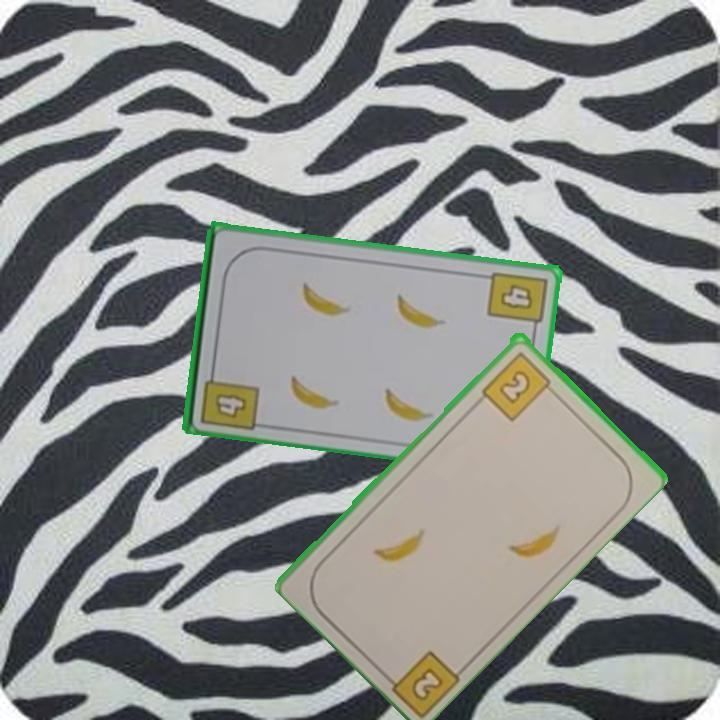2b: (378, 646, 464, 717), (478, 348, 557, 424)
4b: (196, 362, 262, 432), (483, 268, 550, 336)
